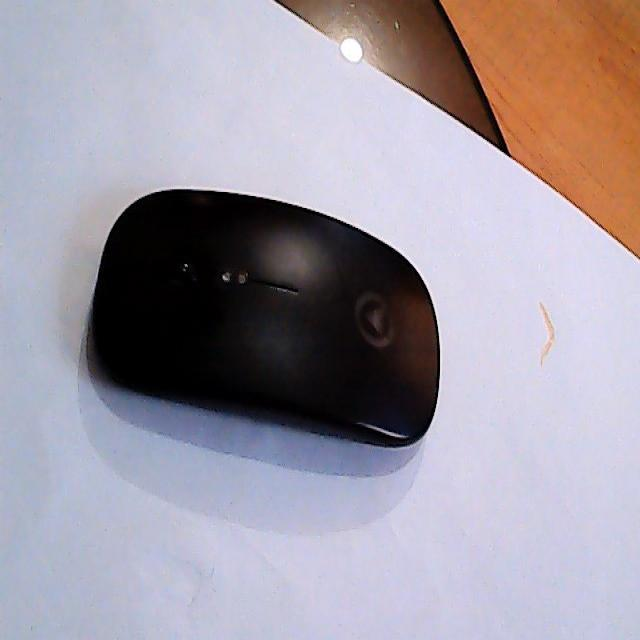-keyboard-: (89, 185, 442, 449)
